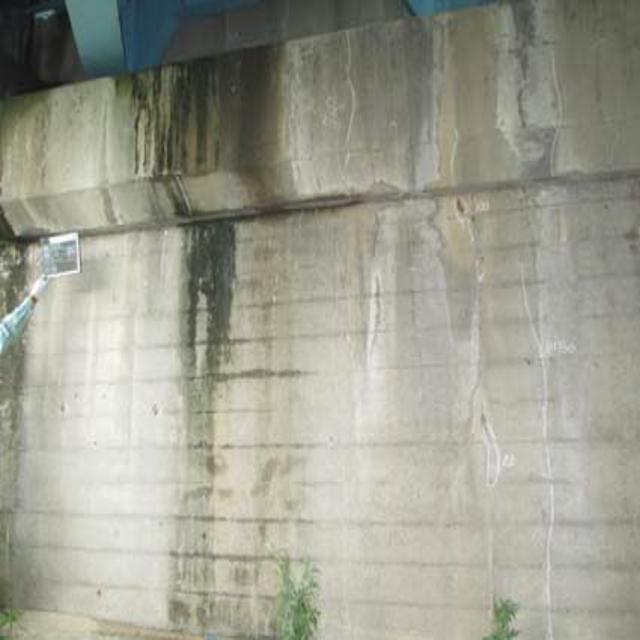leakage: (128, 60, 288, 406)
